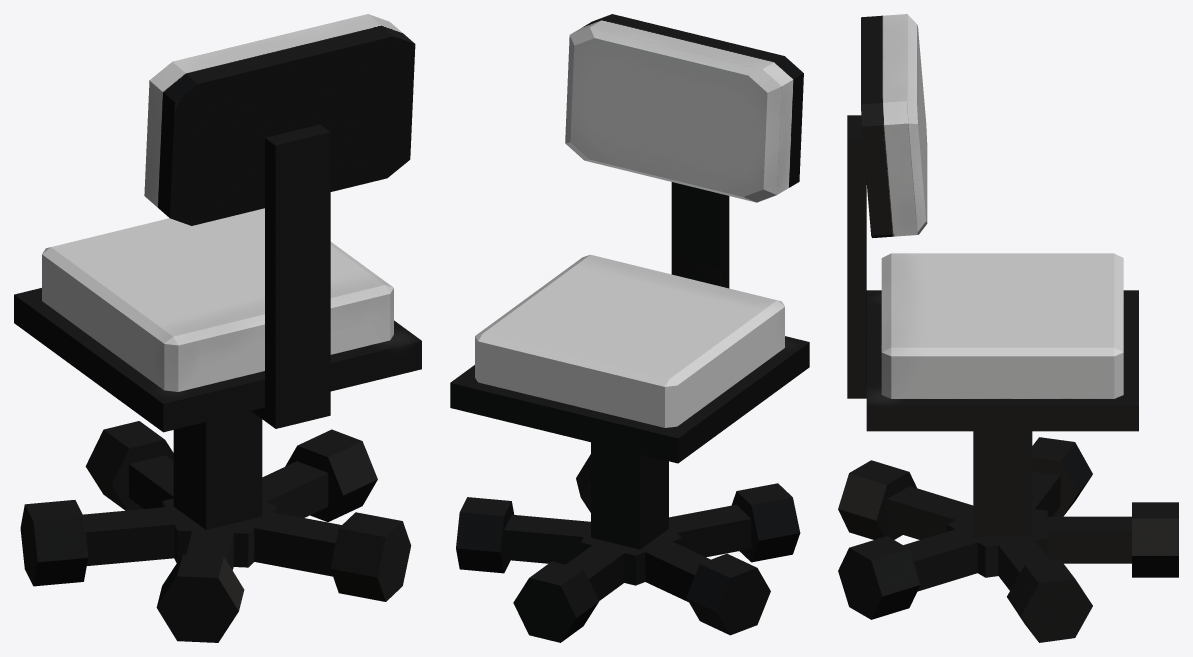
Rendered from Chair_001.fbx.
The picture shows the model from 3 angles, left to right: view 1: azimuth 30°, elevation 25°; view 2: azimuth 150°, elevation 25°; view 3: azimuth 270°, elevation 25°; orthographic projection. The views are drawn at different scales.
Visible parts, largest first — view 1: Chair_001; view 2: Chair_001; view 3: Chair_001.
Boxes of the visible parts, box(x1,y1,x2,y2) form: Chair_001: box(14, 14, 421, 642); Chair_001: box(450, 14, 809, 642); Chair_001: box(838, 14, 1178, 642).
Size of the model in its own units: 57.43 by 90.52 by 54.62.
1 material, 1 textured.
